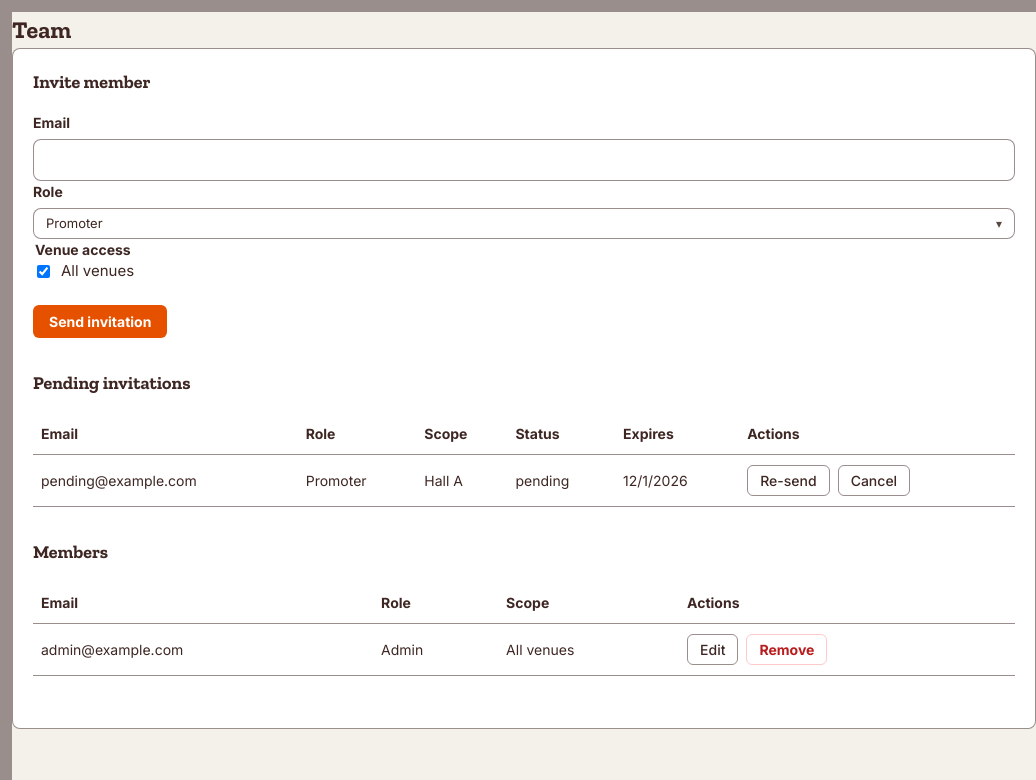
Scenario: TeamSettingsPage › submits invite from team page
Expected: the text "pending@example.com" is shown, [33, 454, 298, 506]
Type "new@example.com" into the field labelled "Email" at (524, 160), box [33, 139, 1015, 181]
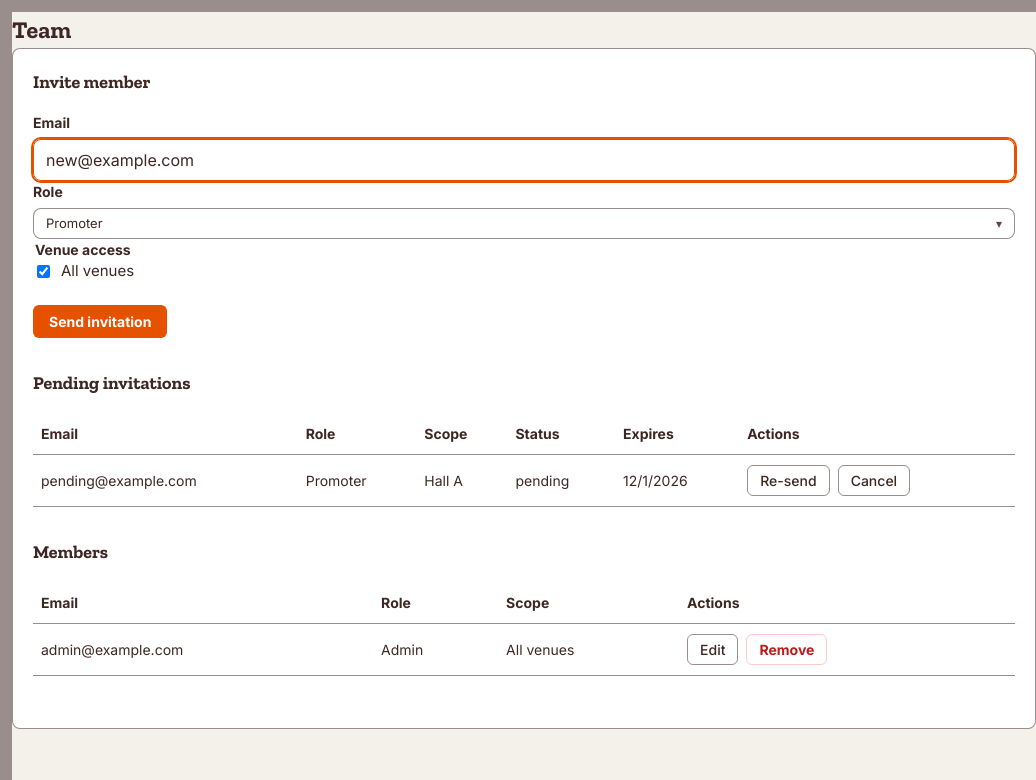
Click the button with test id "invite-member-submit" at (100, 321), box [33, 304, 167, 338]
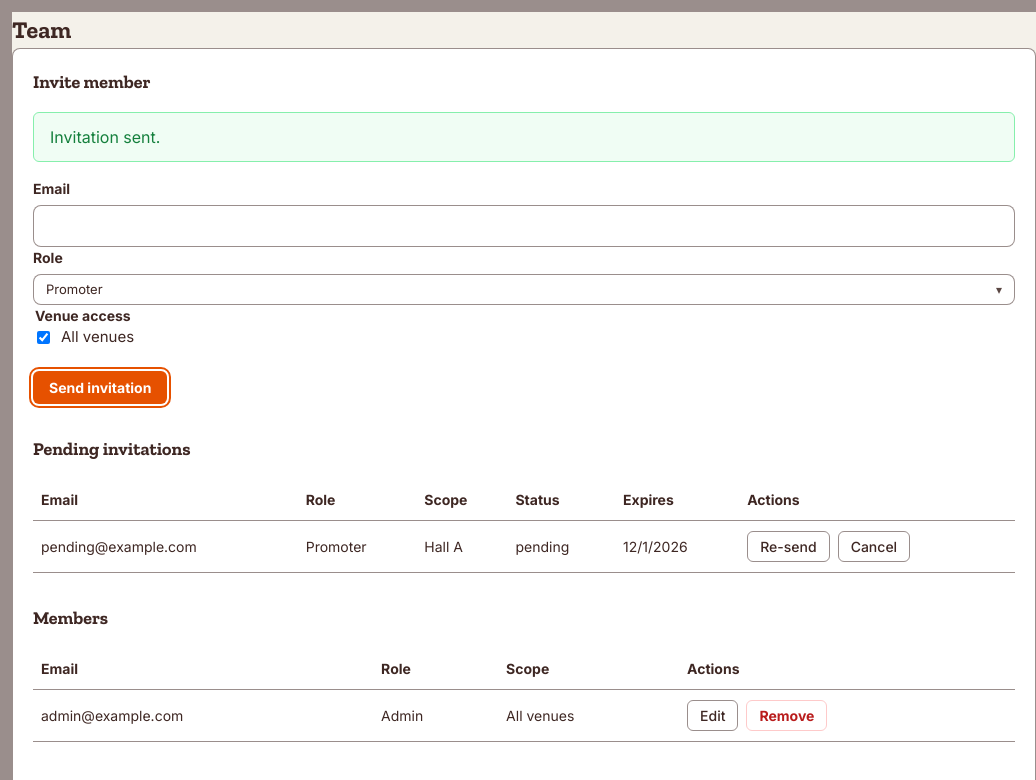
Expected: the text "Invitation sent." is shown, [33, 112, 1015, 162]
